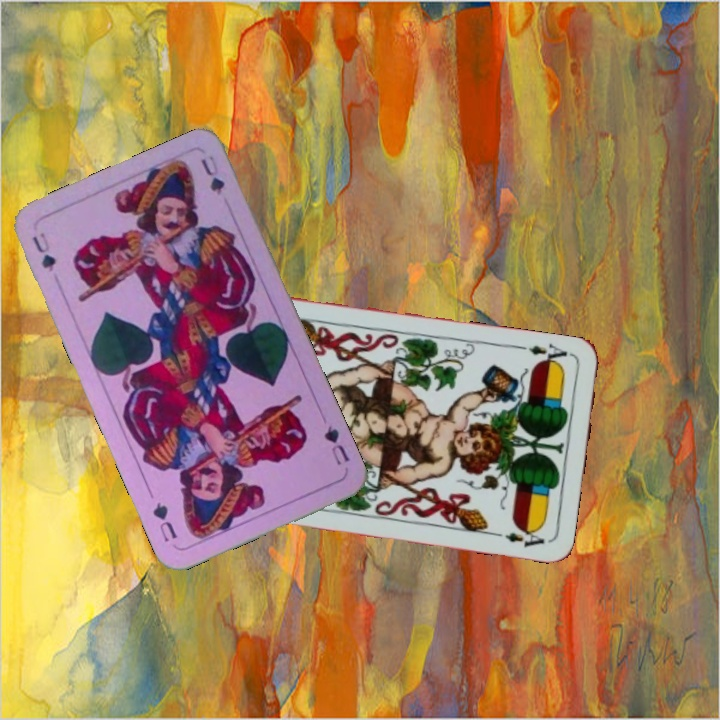EA: (524, 340, 570, 369)
GU: (320, 421, 352, 468), (28, 228, 59, 274)
